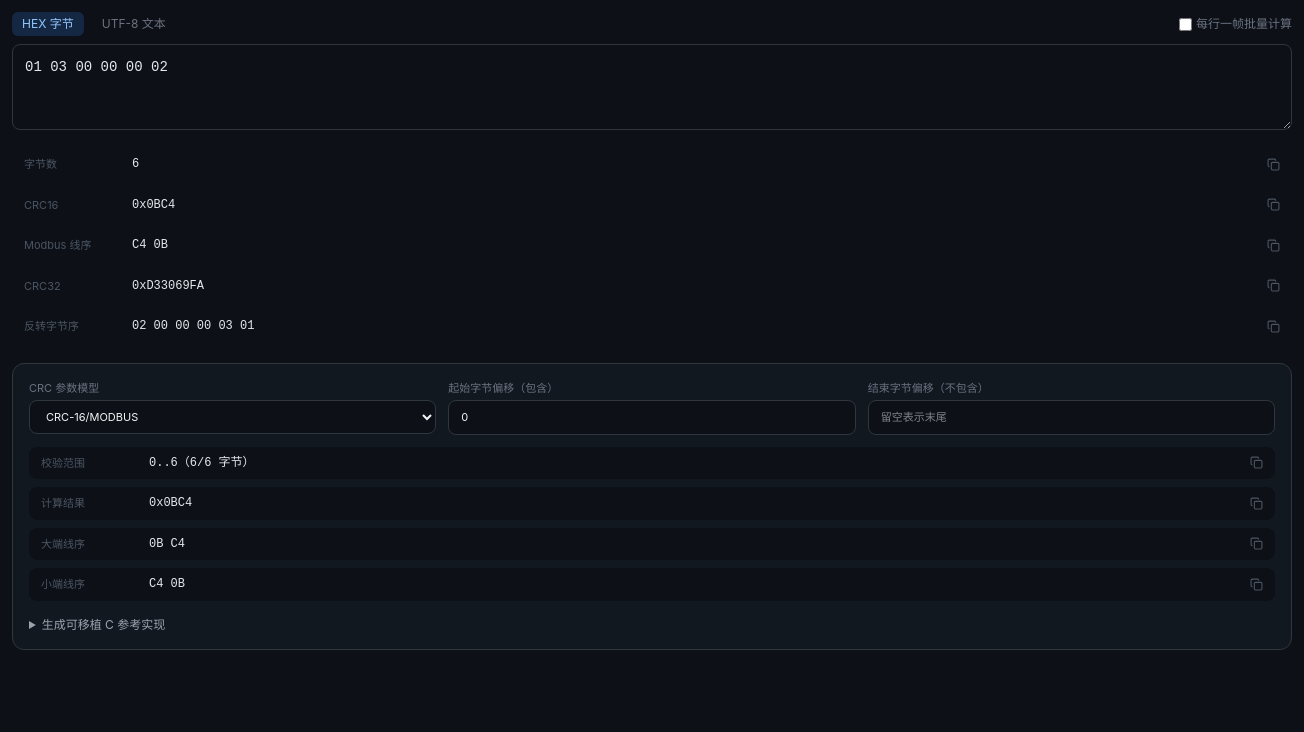
Test case: CrcTool engineering workflow › selects a named model and calculates a documented check vector
Click the button "UTF-8 文本": [134, 24] box [92,12,176,36]
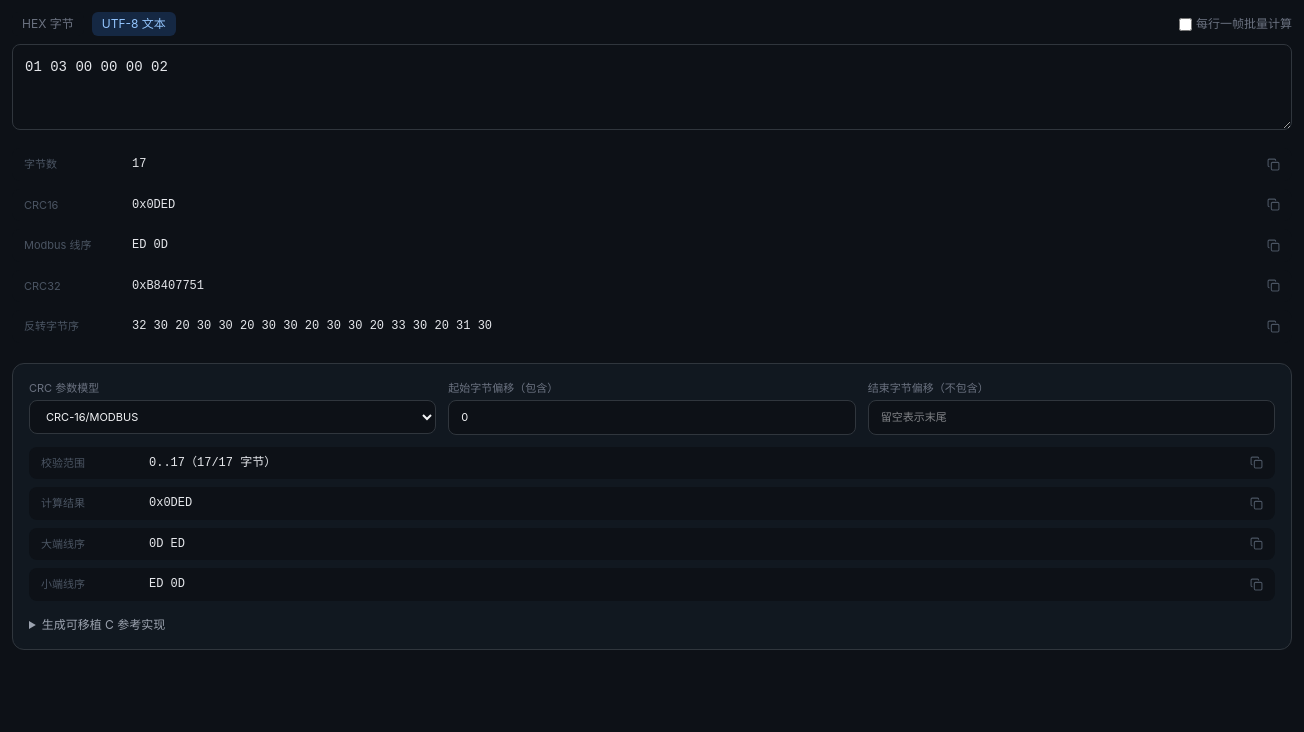
Replace the text in the text box named "CRC 输入" with "123456789": [652, 87] box [12,44,1292,130]
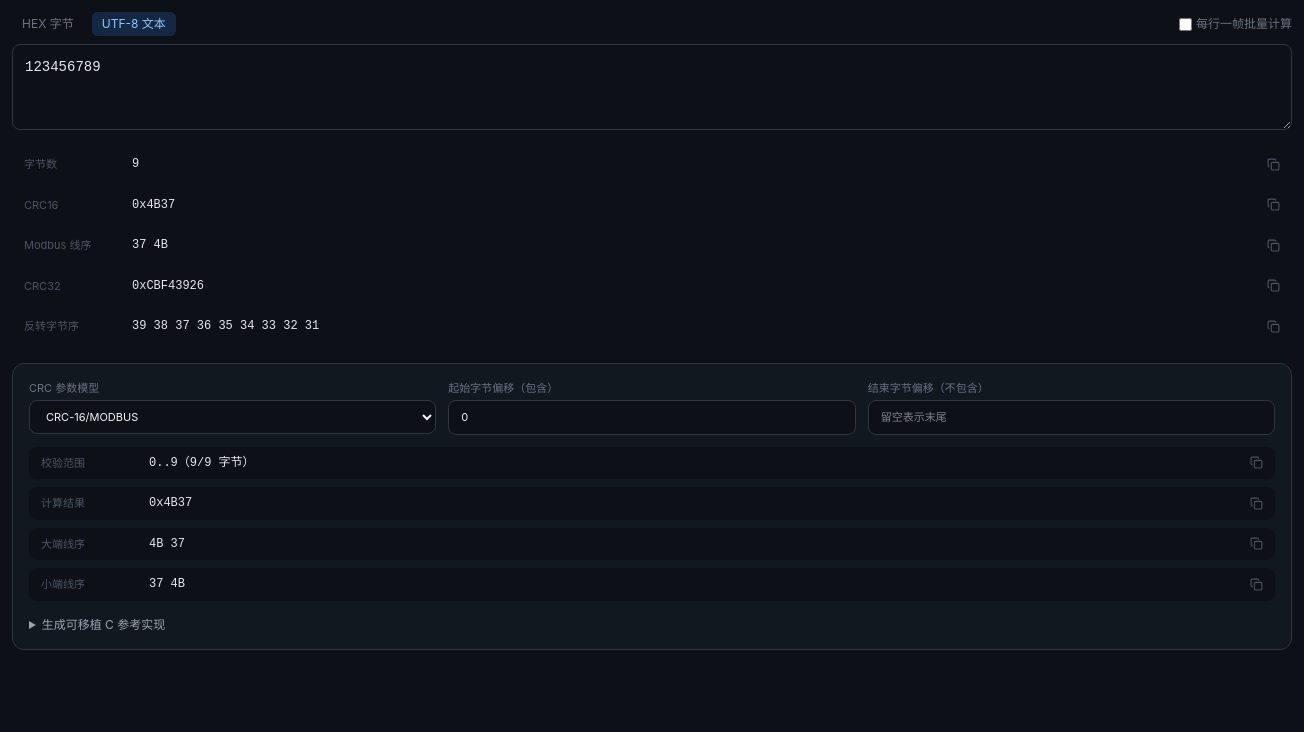
Select "CRC-16/CCITT-FALSE" in the dropdown labelled "CRC 参数模型": [233, 417] box [29,400,436,434]
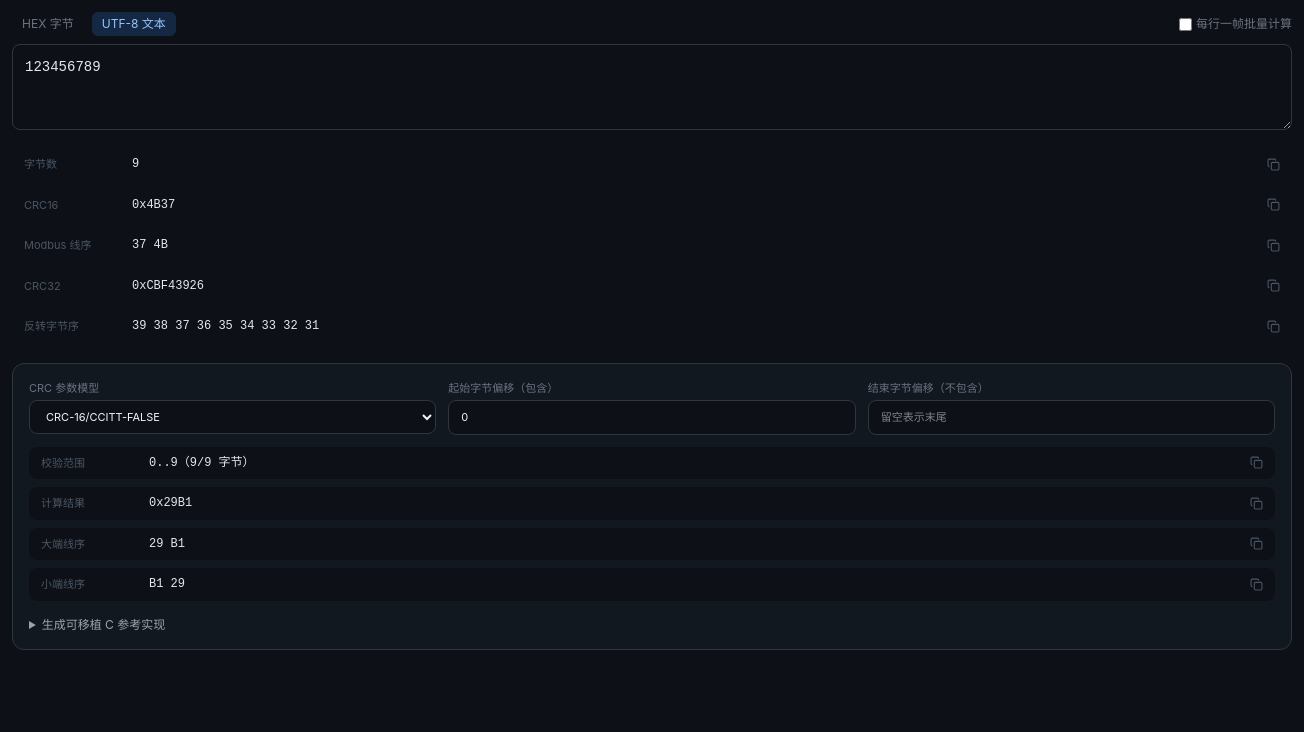
Expected: the text "0..9（9/9 字节）" is shown, [149,456,255,470]
Expected: the text "0x29B1" is shown, [149,496,192,510]
